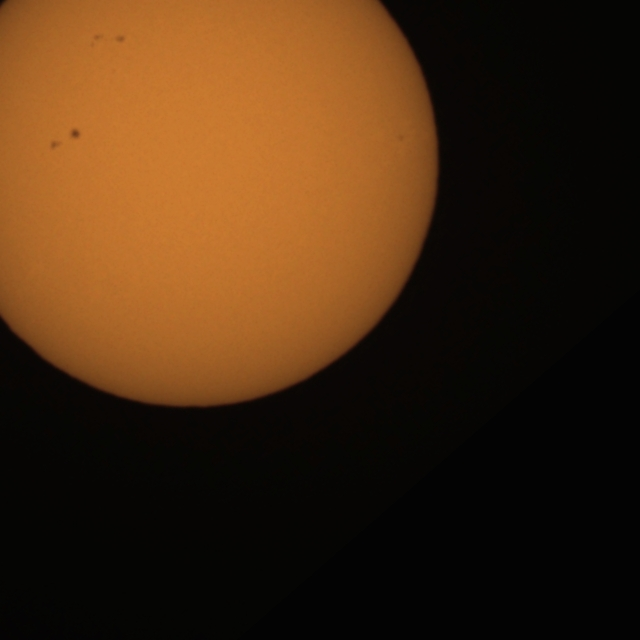sunspot: (48, 127, 82, 152), (89, 32, 127, 48), (68, 126, 82, 142), (48, 139, 63, 151), (113, 33, 126, 45), (396, 132, 406, 144)
